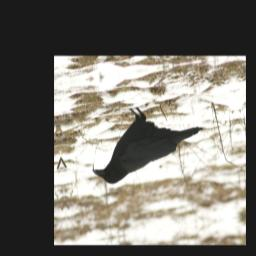Crow: (84, 95, 206, 192)
